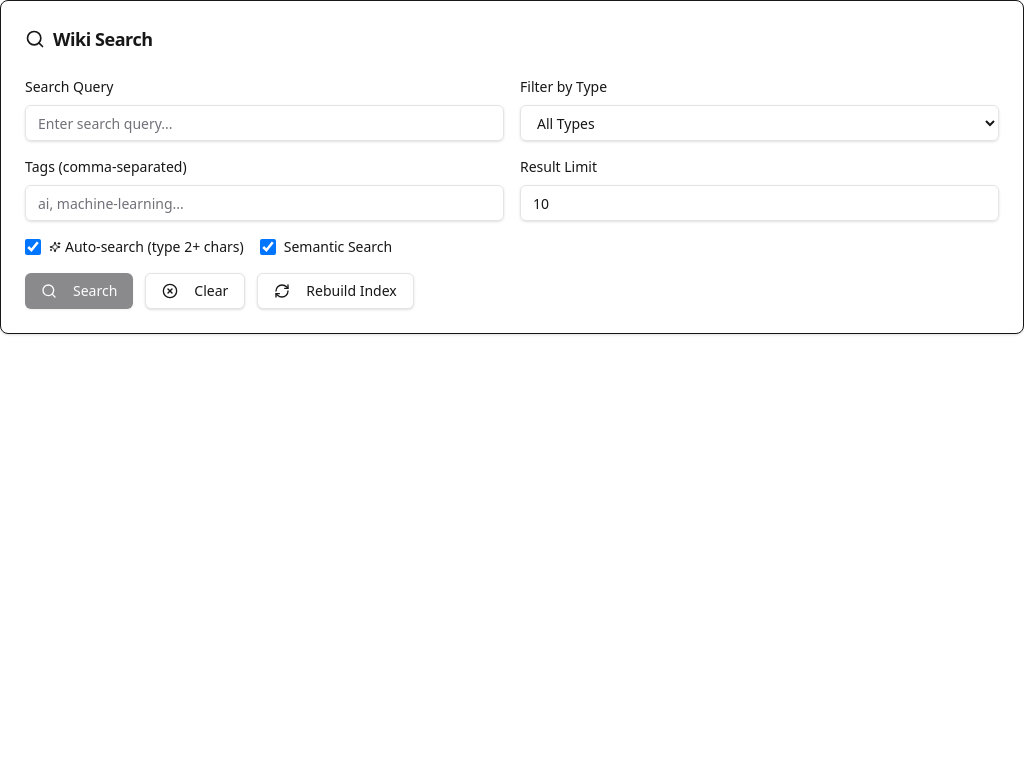
WikiSearch › should display search results after successful search
The image size is (1024, 760).
Type "machine learning" into the field with placeholder "Enter search query..." at [264, 123], box [25,105,504,141]
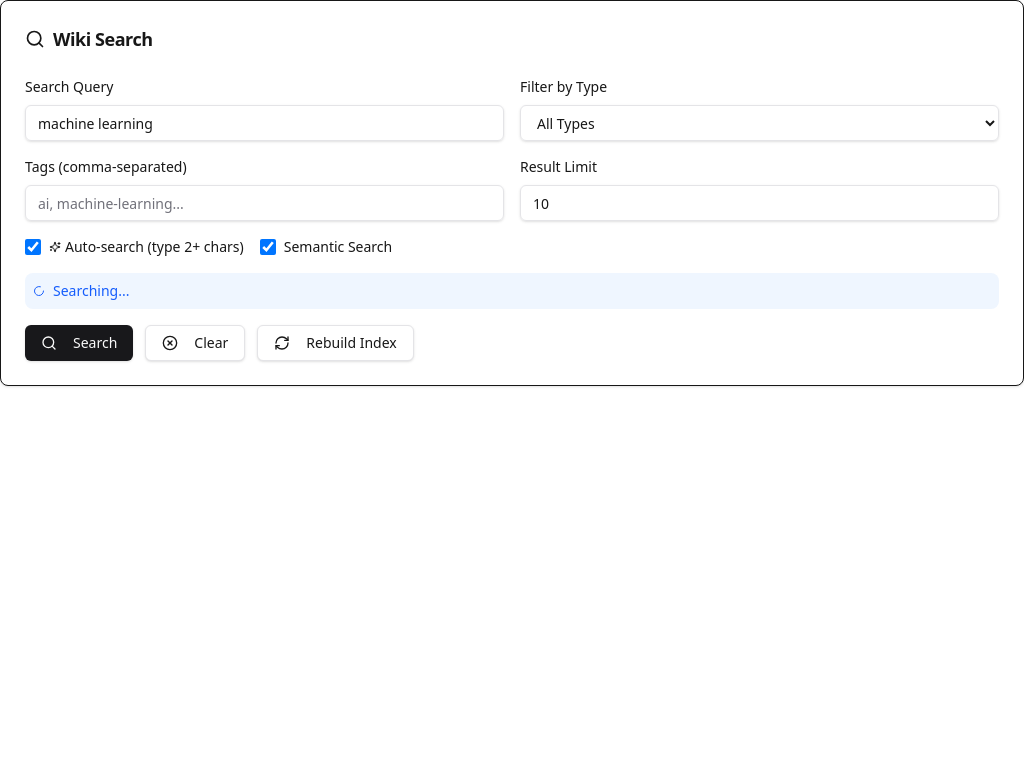
Click the button "Search" at [79, 343], box [25,325,133,361]
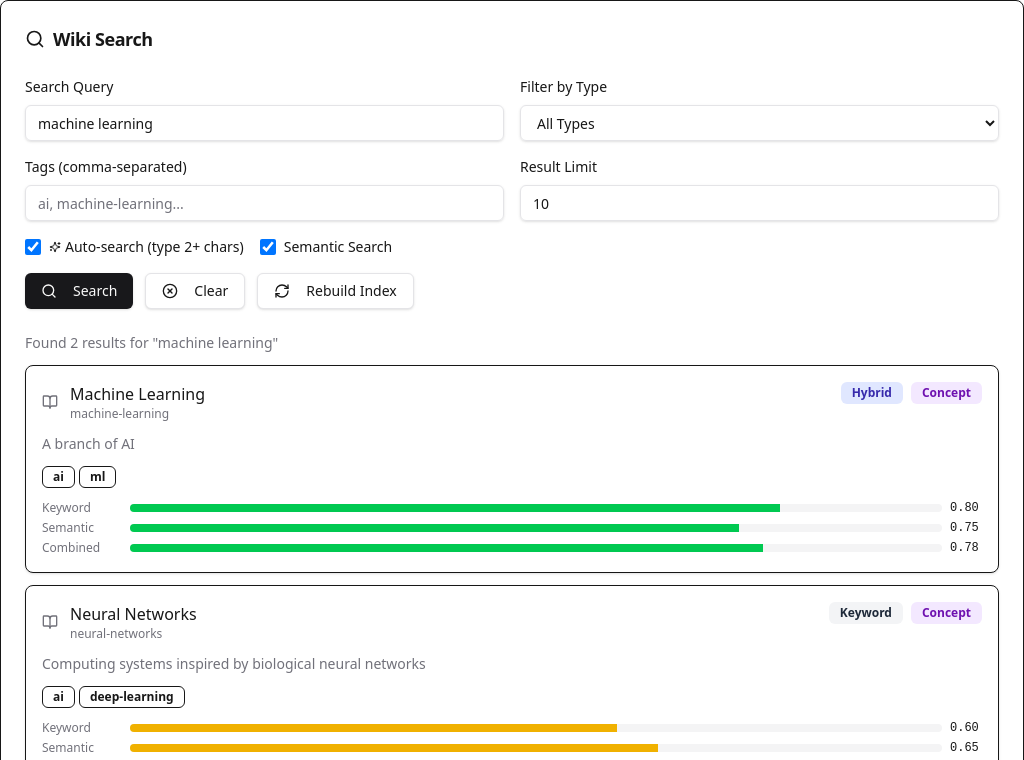
Now the text "Machine Learning" is shown, box [70,382,205,406]
Now the text "Neural Networks" is shown, box [70,602,197,626]
